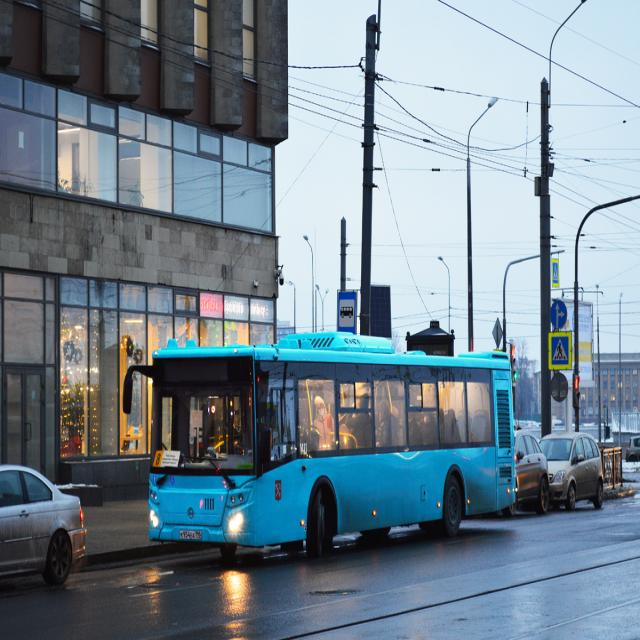number-of-bus: (155, 452, 164, 467)
